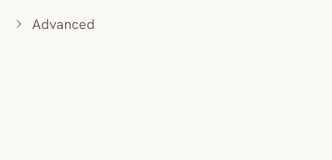
Scenario: Disclosure › hides expert content until expanded, then collapses again
Expected: the text "Clustering threshold" is not shown
Click the button "Advanced": (53, 24) [12,14,95,34]
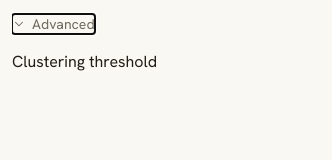
Now the button "Advanced" is expanded
Now the text "Clustering threshold" is shown, box [12,51,157,72]
Click the button "Advanced": (53, 24) [12,14,95,34]
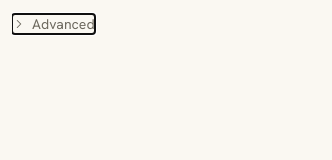
Now the text "Clustering threshold" is gone
